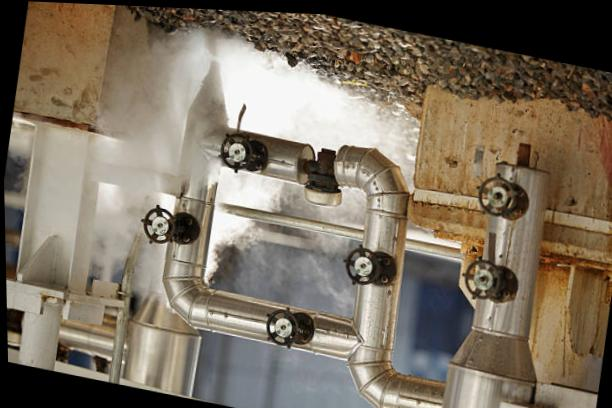leak: (96, 25, 413, 283)
